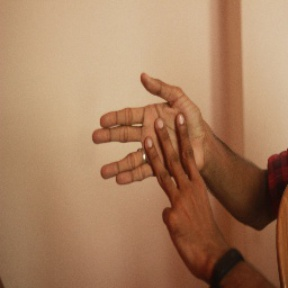M: (94, 65, 210, 213)
